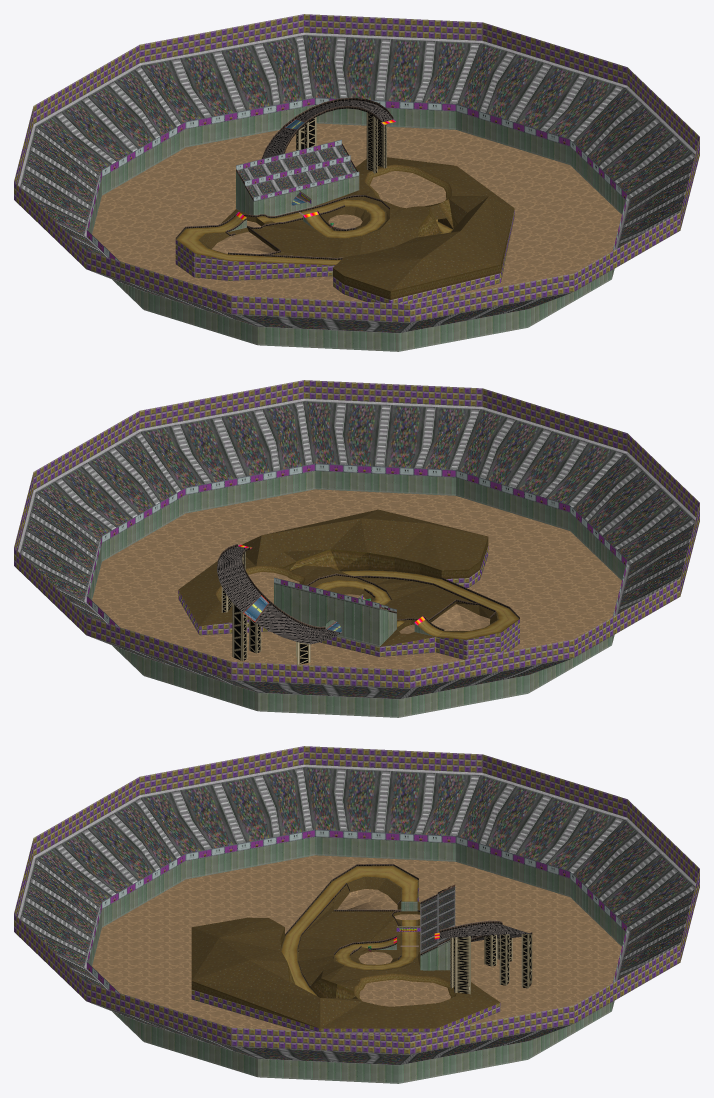
The picture shows the model from 3 angles, top to bottom: view 1: azimuth 30°, elevation 25°; view 2: azimuth 150°, elevation 25°; view 3: azimuth 270°, elevation 25°; orthographic projection.
Visible parts, largest first — view 1: Wario_Bros__Stadium_SKP__bleachers, Wario_Bros__Stadium_SKP__wl_mizutamari3, Wario_Bros__Stadium_SKP__wario_block, Wario_Bros__Stadium_SKP__dirt, Wario_Bros__Stadium_SKP__bleacher_blocks, Wario_Bros__Stadium_SKP__road, Wario_Bros__Stadium_SKP__wall_uigi, Wario_Bros__Stadium_SKP__fence, Wario_Bros__Stadium_SKP__metals, Wario_Bros__Stadium_SKP__grate; view 2: Wario_Bros__Stadium_SKP__bleachers, Wario_Bros__Stadium_SKP__wl_mizutamari3, Wario_Bros__Stadium_SKP__wario_block, Wario_Bros__Stadium_SKP__dirt, Wario_Bros__Stadium_SKP__bleacher_blocks, Wario_Bros__Stadium_SKP__wall_uigi, Wario_Bros__Stadium_SKP__grate, Wario_Bros__Stadium_SKP__road, Wario_Bros__Stadium_SKP__metals, Wario_Bros__Stadium_SKP__fence; view 3: Wario_Bros__Stadium_SKP__bleachers, Wario_Bros__Stadium_SKP__wl_mizutamari3, Wario_Bros__Stadium_SKP__wario_block, Wario_Bros__Stadium_SKP__dirt, Wario_Bros__Stadium_SKP__bleacher_blocks, Wario_Bros__Stadium_SKP__road, Wario_Bros__Stadium_SKP__metals, Wario_Bros__Stadium_SKP__wall_uigi, Wario_Bros__Stadium_SKP__fence, Wario_Bros__Stadium_SKP__grate.
Part boxes in pixels (left/top/right/bottom): Wario_Bros__Stadium_SKP__bleachers: left=18, top=32, right=695, bottom=351; Wario_Bros__Stadium_SKP__wl_mizutamari3: left=92, top=123, right=621, bottom=301; Wario_Bros__Stadium_SKP__wario_block: left=14, top=14, right=699, bottom=322; Wario_Bros__Stadium_SKP__dirt: left=200, top=157, right=514, bottom=291; Wario_Bros__Stadium_SKP__bleacher_blocks: left=86, top=97, right=627, bottom=260; Wario_Bros__Stadium_SKP__road: left=176, top=199, right=452, bottom=265; Wario_Bros__Stadium_SKP__wall_uigi: left=245, top=164, right=513, bottom=299; Wario_Bros__Stadium_SKP__fence: left=175, top=97, right=393, bottom=259; Wario_Bros__Stadium_SKP__metals: left=296, top=112, right=386, bottom=199; Wario_Bros__Stadium_SKP__grate: left=262, top=100, right=392, bottom=158; Wario_Bros__Stadium_SKP__bleachers: left=18, top=398, right=695, bottom=717; Wario_Bros__Stadium_SKP__wl_mizutamari3: left=92, top=489, right=621, bottom=669; Wario_Bros__Stadium_SKP__wario_block: left=14, top=380, right=699, bottom=688; Wario_Bros__Stadium_SKP__dirt: left=178, top=509, right=497, bottom=646; Wario_Bros__Stadium_SKP__bleacher_blocks: left=86, top=463, right=627, bottom=626; Wario_Bros__Stadium_SKP__wall_uigi: left=215, top=537, right=488, bottom=630; Wario_Bros__Stadium_SKP__grate: left=217, top=546, right=341, bottom=644; Wario_Bros__Stadium_SKP__road: left=314, top=570, right=519, bottom=639; Wario_Bros__Stadium_SKP__metals: left=221, top=551, right=363, bottom=664; Wario_Bros__Stadium_SKP__fence: left=217, top=543, right=519, bottom=630; Wario_Bros__Stadium_SKP__bleachers: left=18, top=764, right=695, bottom=1083; Wario_Bros__Stadium_SKP__wl_mizutamari3: left=92, top=855, right=621, bottom=1030; Wario_Bros__Stadium_SKP__wario_block: left=14, top=746, right=699, bottom=1054; Wario_Bros__Stadium_SKP__dirt: left=191, top=877, right=500, bottom=1028; Wario_Bros__Stadium_SKP__bleacher_blocks: left=86, top=829, right=627, bottom=992; Wario_Bros__Stadium_SKP__road: left=281, top=865, right=418, bottom=996; Wario_Bros__Stadium_SKP__metals: left=396, top=926, right=532, bottom=994; Wario_Bros__Stadium_SKP__wall_uigi: left=191, top=911, right=456, bottom=1027; Wario_Bros__Stadium_SKP__fence: left=285, top=864, right=532, bottom=986; Wario_Bros__Stadium_SKP__grate: left=439, top=923, right=530, bottom=941.
Bounding box in the file's own units: 168010 × 22528 × 168010.
20 materials, 19 textured.
